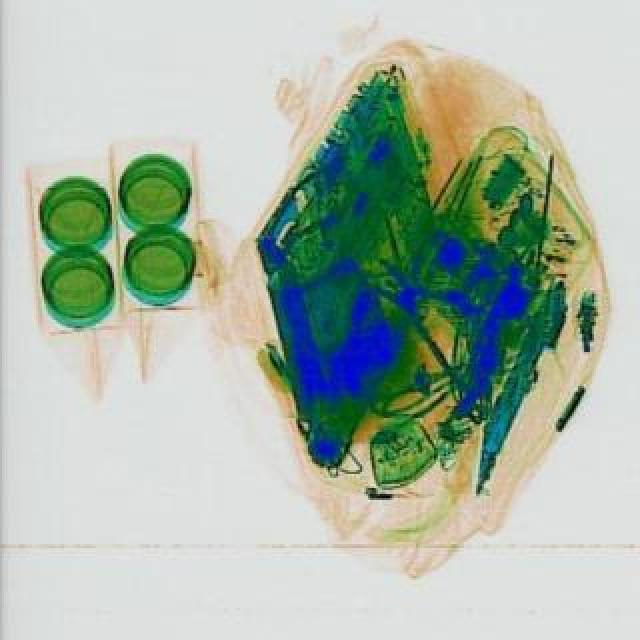wrench: (338, 246, 518, 400)
